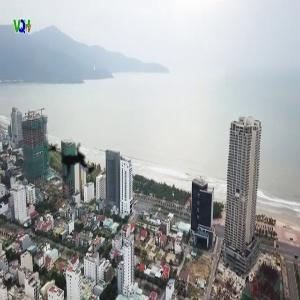drone: (21, 113, 122, 214)
